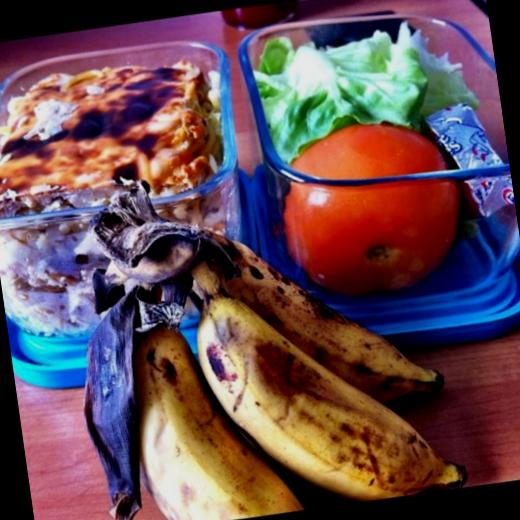Banana: (203, 199, 446, 421), (116, 308, 302, 520)
